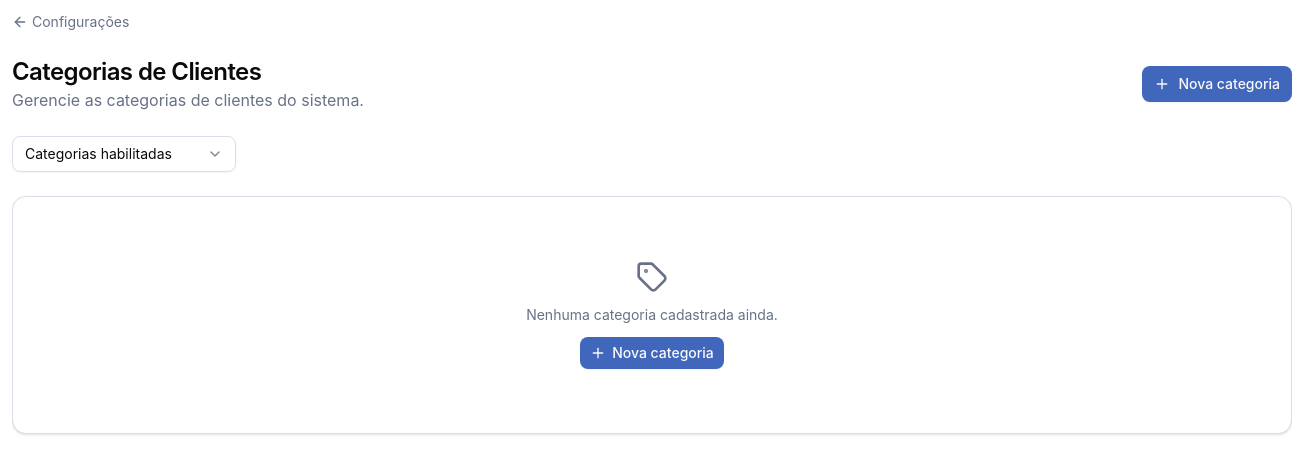
Test: ClientCategoriesPage › uses friendly 'habilitadas/desabilitadas' filter language
Expected: the text "Nenhuma categoria cadastrada ainda." is shown, [526,305,778,325]
Click the dropdown at (124, 154), box [12,136,236,172]
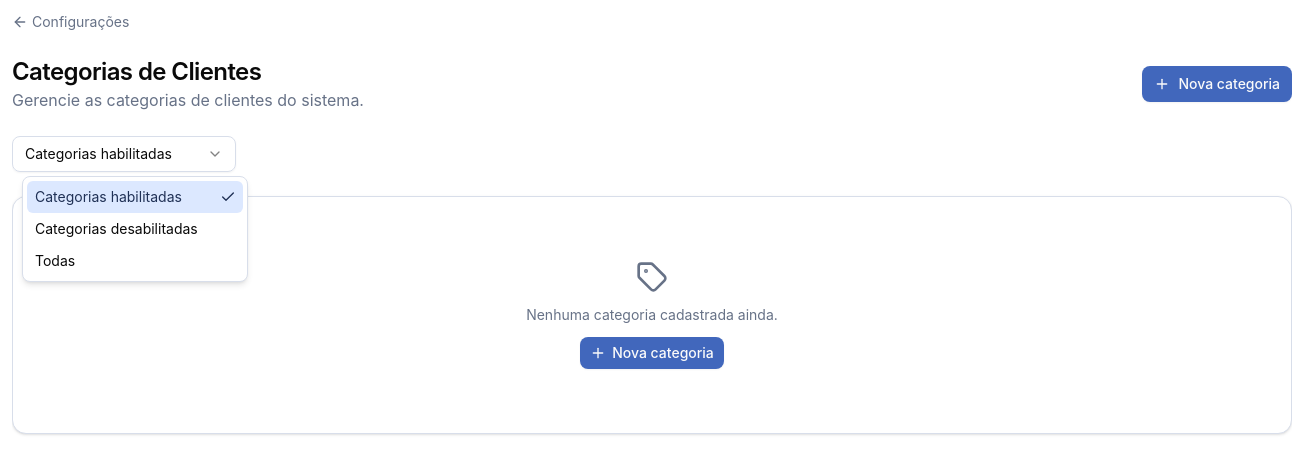
Result: the option "Categorias habilitadas" is shown at [27,181,243,213]
Result: the option "Categorias desabilitadas" is shown at [35,220,198,237]
Result: the option "Todas" is shown at [35,252,75,269]
